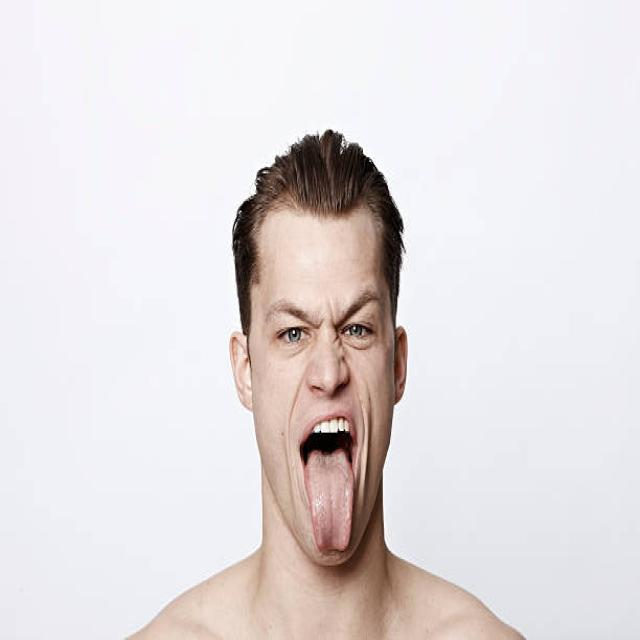tongue: (304, 442, 358, 562)
